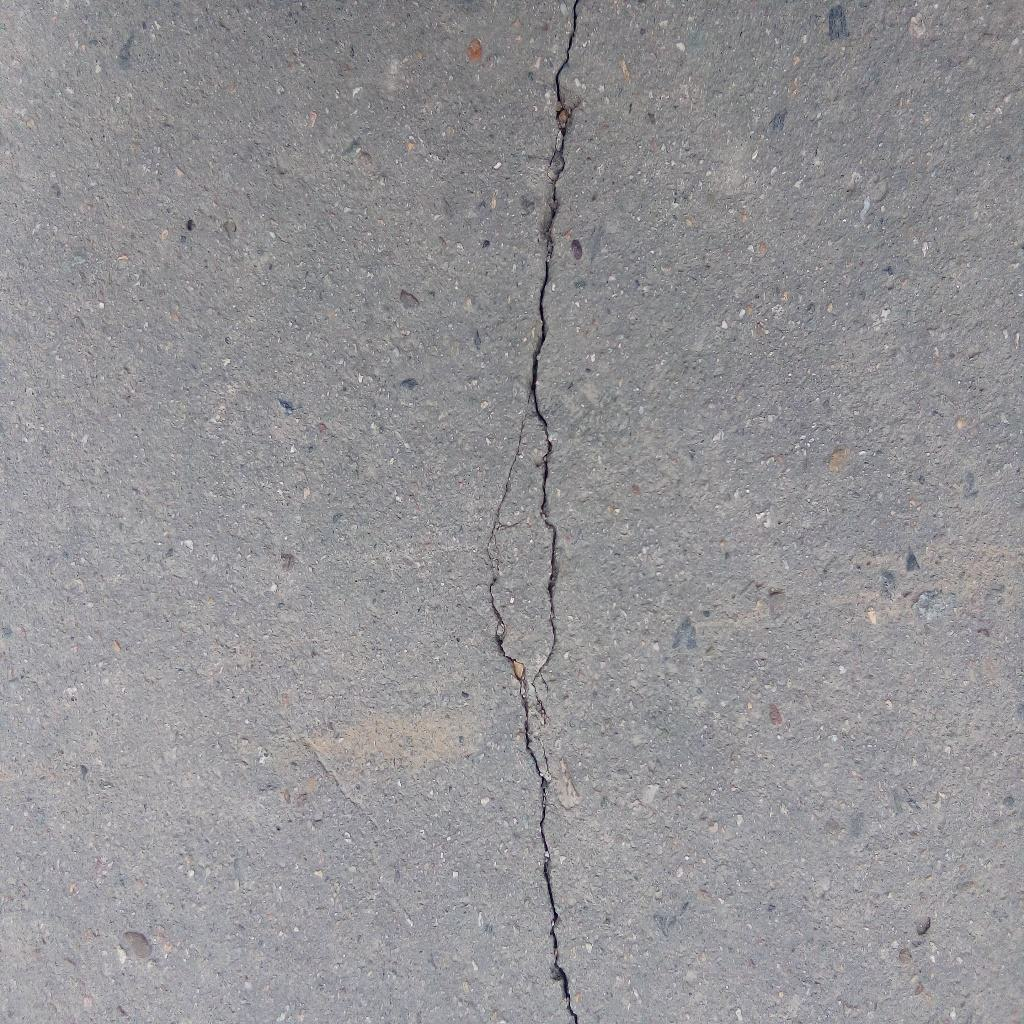Crack: (483, 1, 582, 1024)
